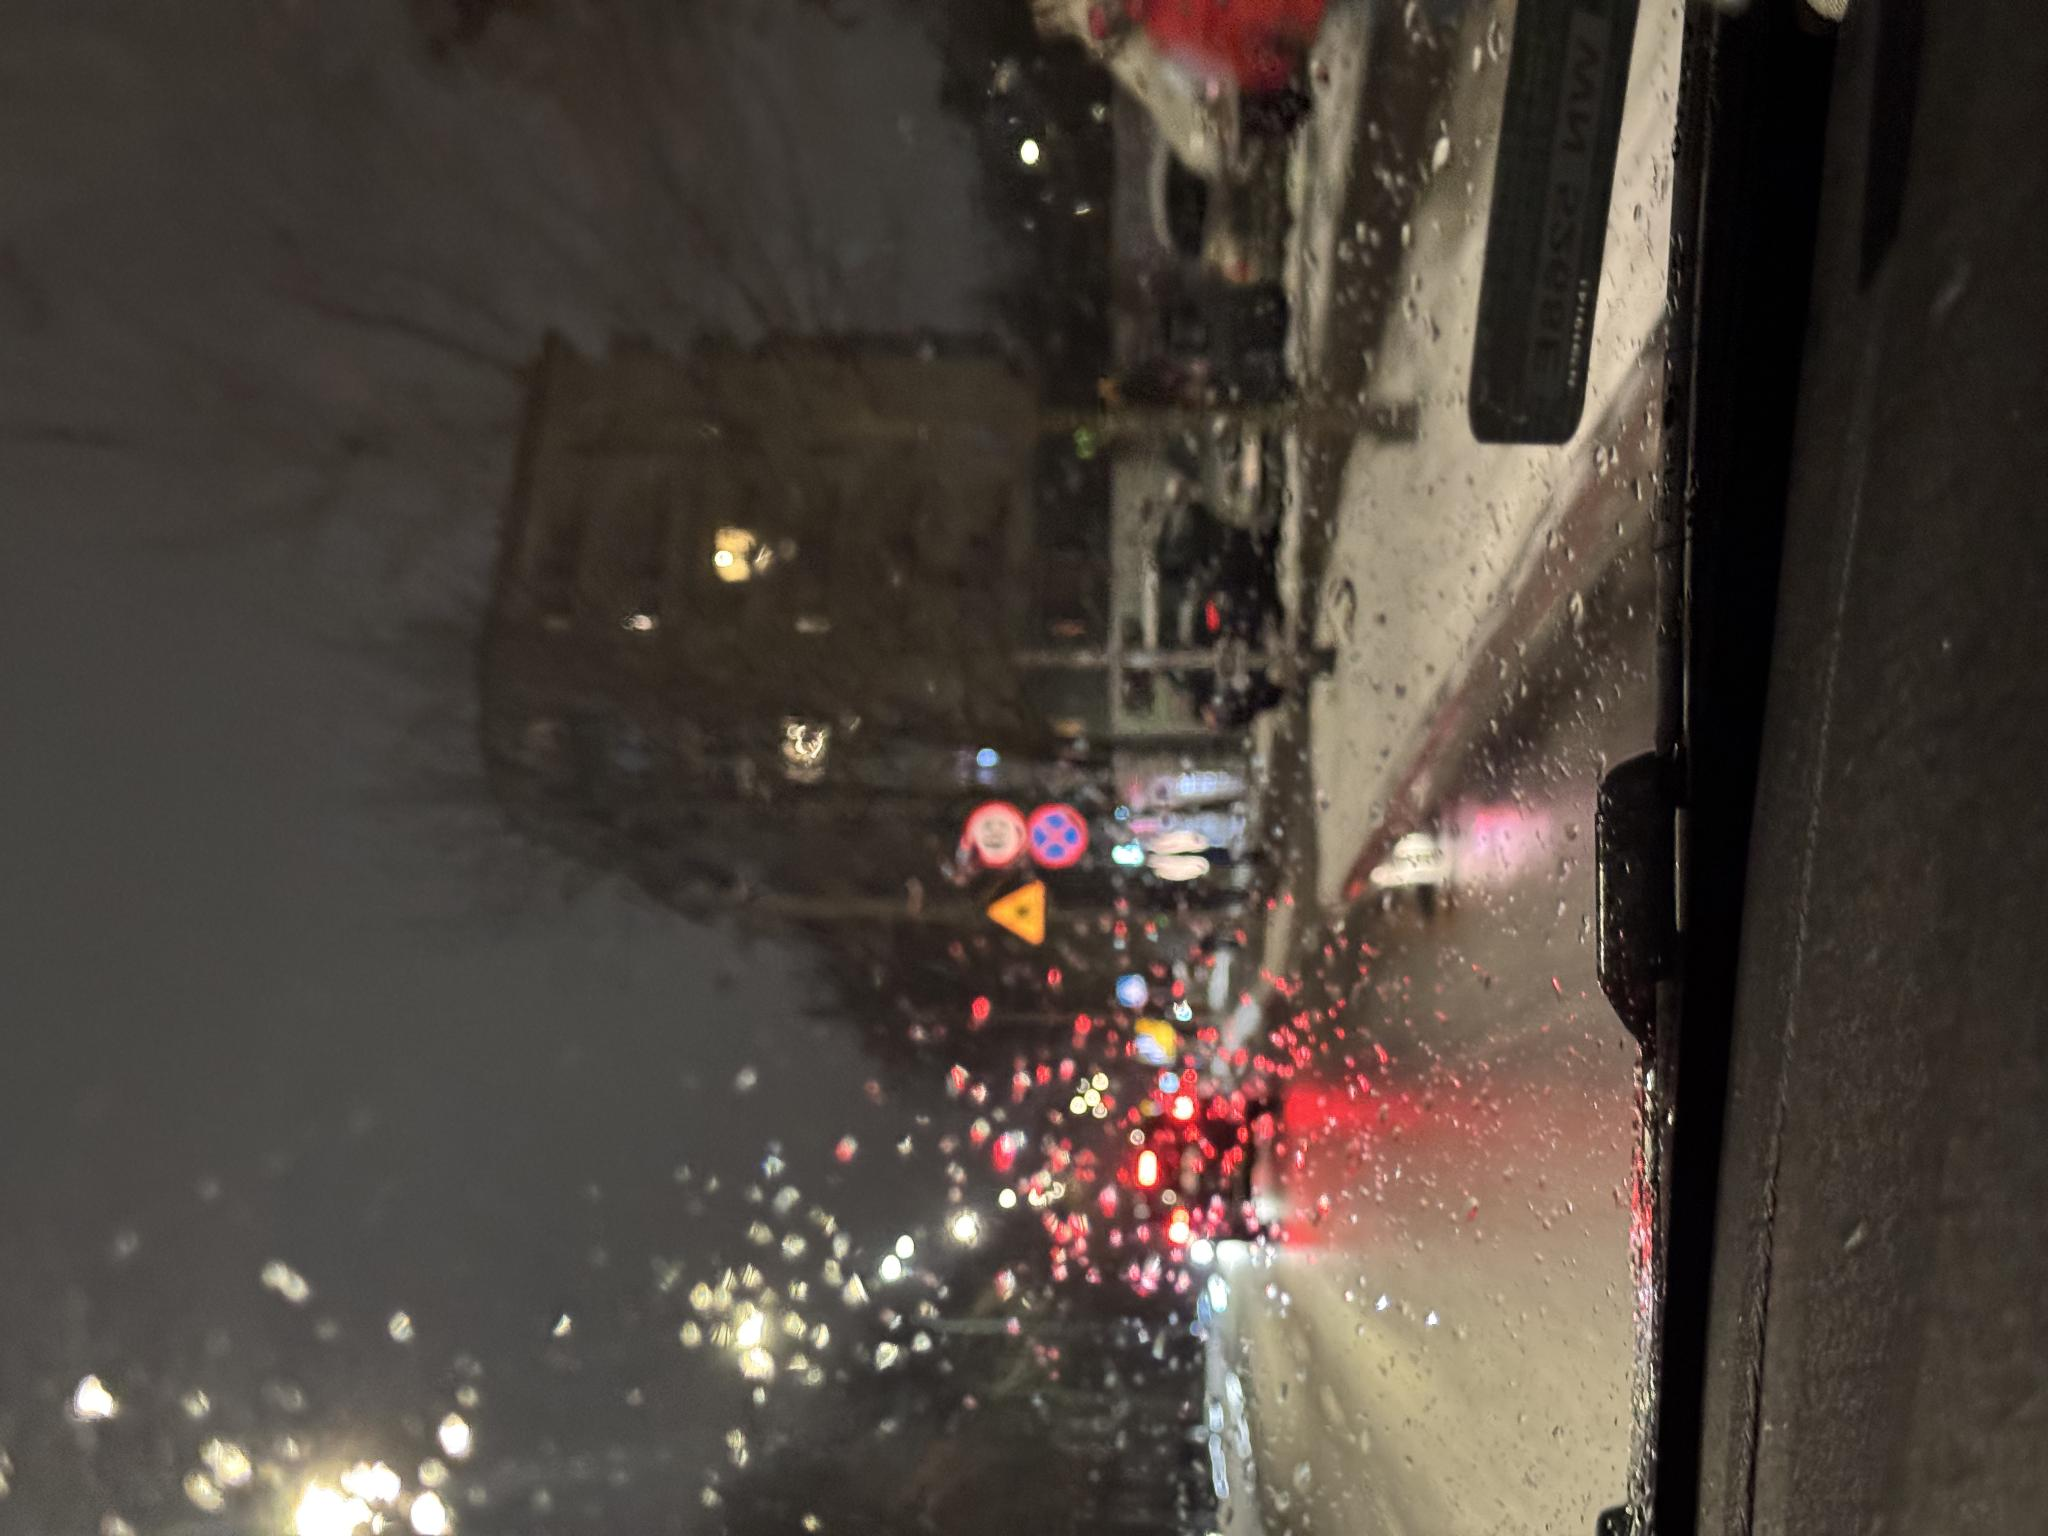prohibitory: (664, 963, 739, 1028), (668, 1028, 732, 1089)
warning: (590, 986, 655, 1047)
